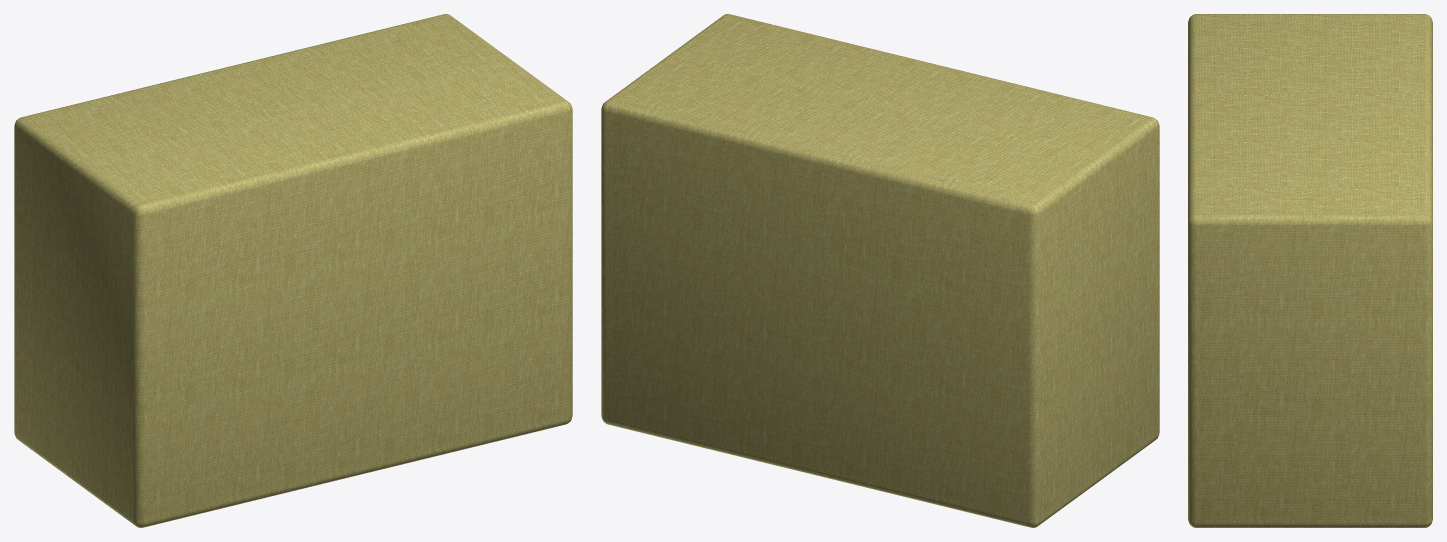
File: Tetris collection Ractangle.FBX
3 renders of one model, left to right at view 1: azimuth 30°, elevation 25°; view 2: azimuth 150°, elevation 25°; view 3: azimuth 270°, elevation 25°, orthographic. The views are drawn at different scales.
Visible parts, largest first — view 1: ChamferBox006; view 2: ChamferBox006; view 3: ChamferBox006.
Part boxes in pixels (x1,y1,x2,y2): ChamferBox006: (14, 14, 572, 527); ChamferBox006: (601, 14, 1159, 527); ChamferBox006: (1188, 14, 1432, 527).
Size of the model in its own units: 880 by 620 by 440.
1 material, 1 textured.
